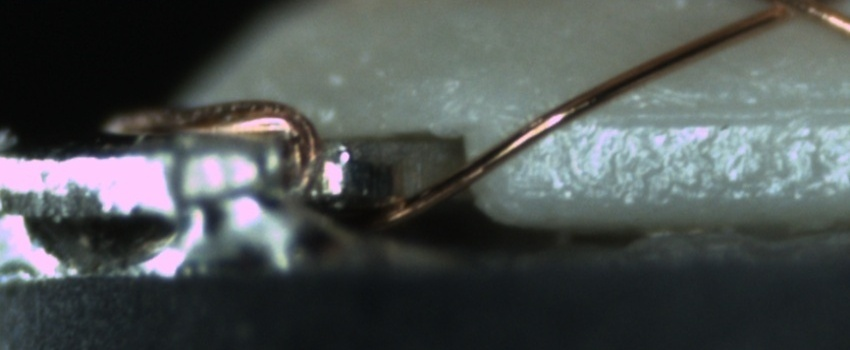CL: (747, 1, 841, 29)
DL: (588, 83, 849, 149)
TE: (96, 93, 331, 207)
